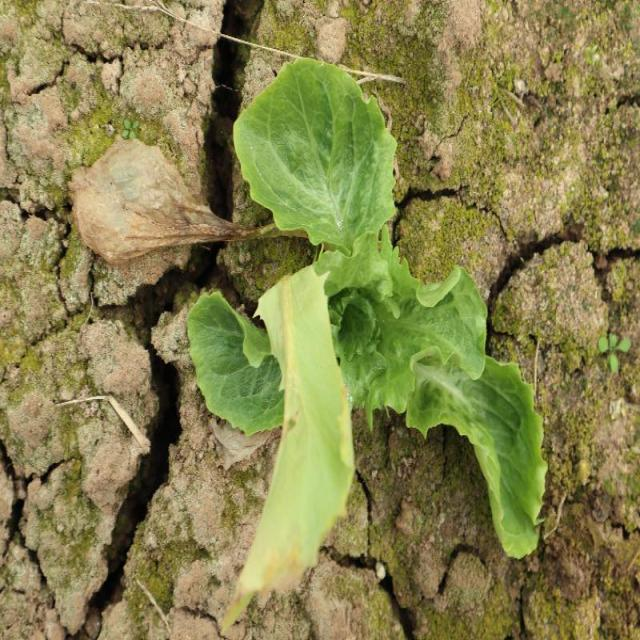crop: (186, 58, 545, 558)
